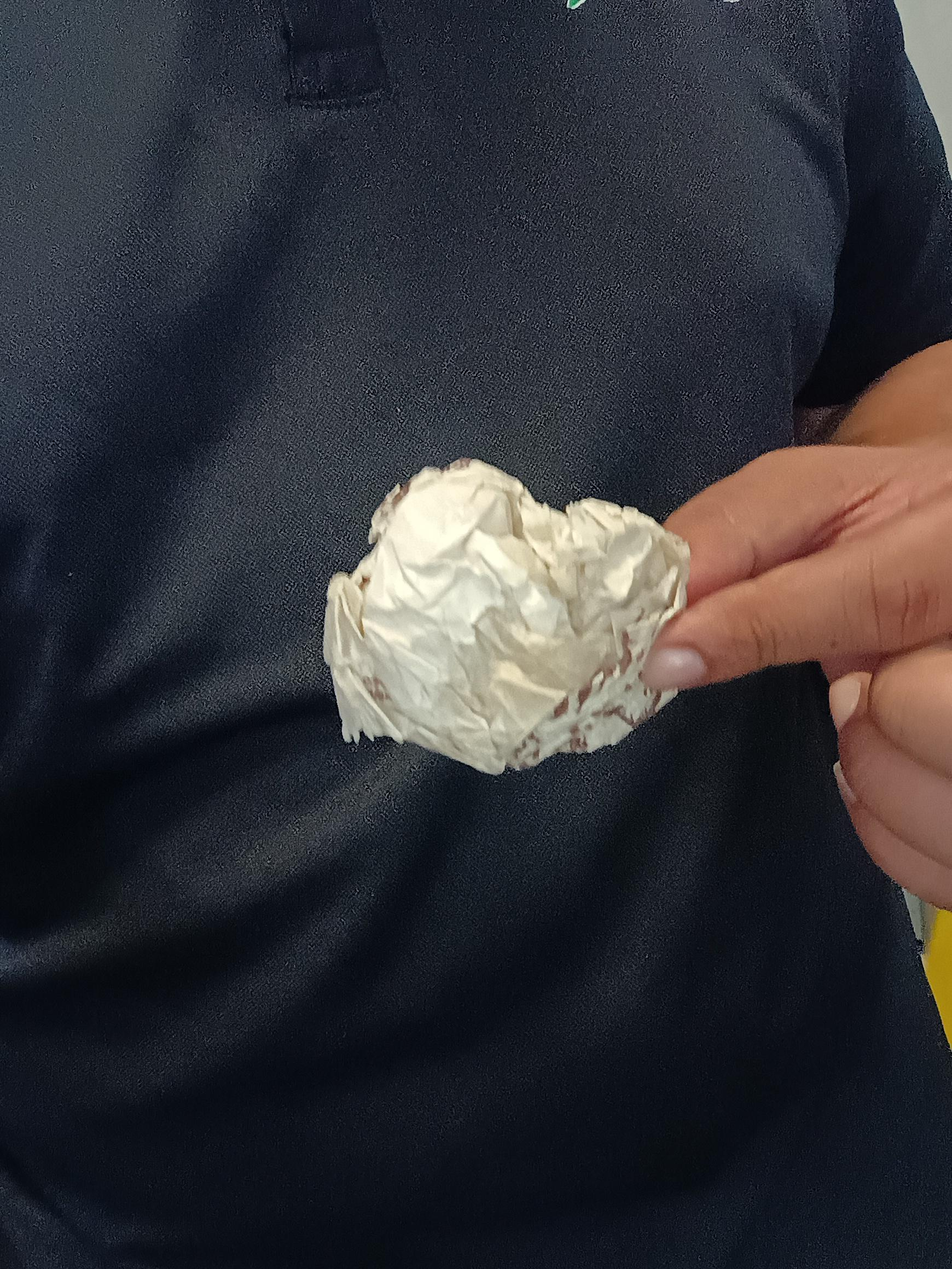Ordinario: (322, 458, 690, 779)
